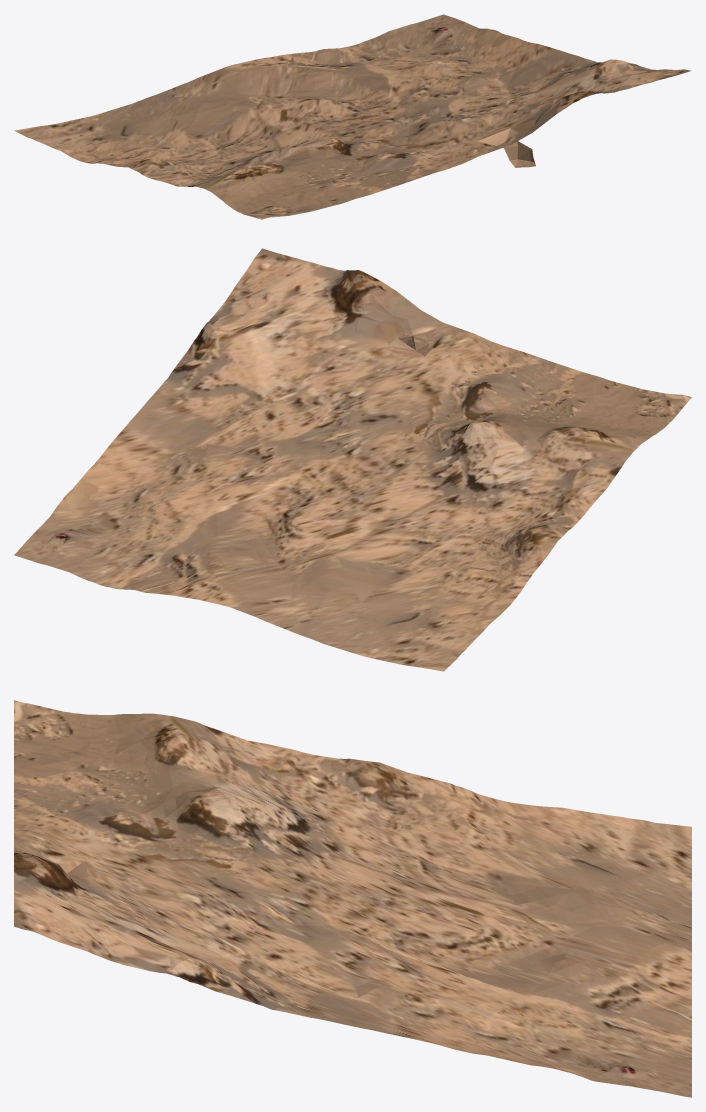
3 renders of one model, top to bottom at view 1: azimuth 30°, elevation 25°; view 2: azimuth 150°, elevation 25°; view 3: azimuth 270°, elevation 25°, orthographic. The views are drawn at different scales.
Size of the model in its own units: 2.09 by 0.6639 by 2.09.
2 materials, 2 textured.
